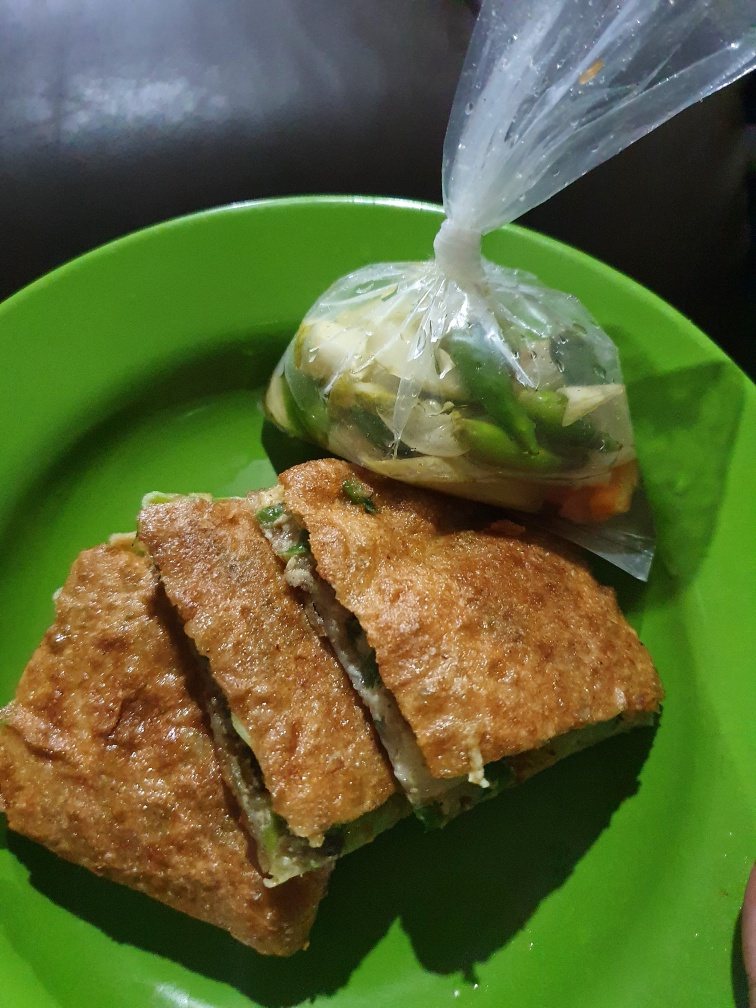martabak telor: (260, 417, 675, 795), (135, 472, 505, 872), (27, 522, 342, 974)
